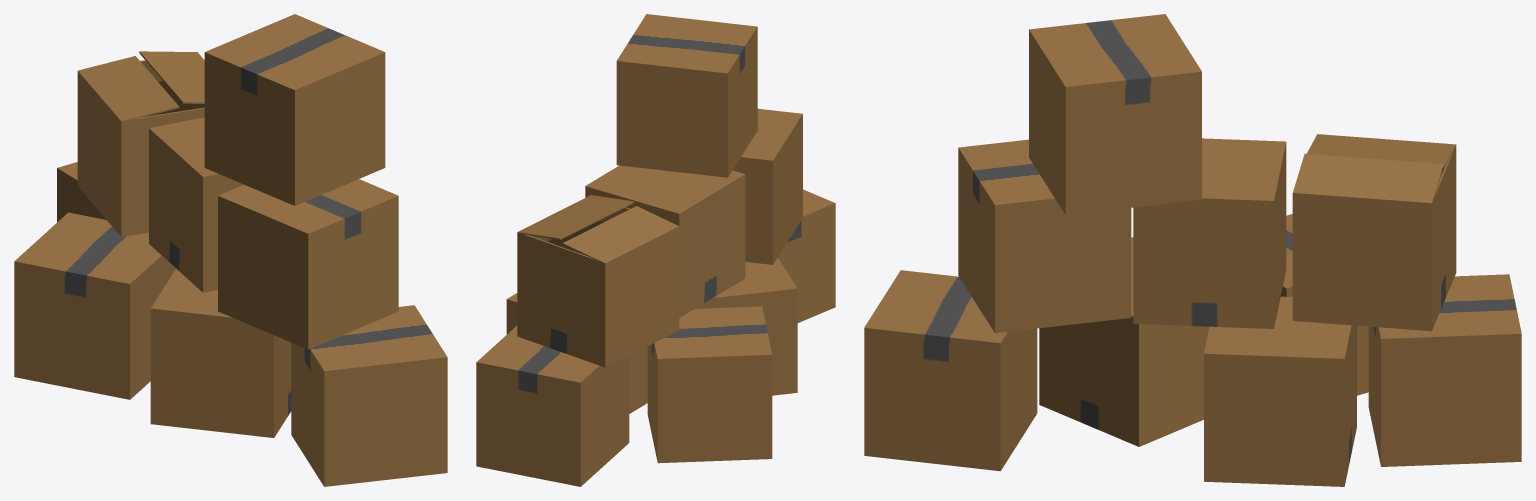
Rendered from BoxPile1.fbx.
The picture shows the model from 3 angles, left to right: view 1: azimuth 30°, elevation 25°; view 2: azimuth 150°, elevation 25°; view 3: azimuth 270°, elevation 25°; orthographic projection. The views are drawn at different scales.
Parts seen in each view (by area): view 1: BoxPile1; view 2: BoxPile1; view 3: BoxPile1.
Part boxes in pixels (x1=…): BoxPile1: x1=14, y1=14, x2=447, y2=486; BoxPile1: x1=476, y1=14, x2=835, y2=486; BoxPile1: x1=864, y1=14, x2=1521, y2=486.
Size of the model in its own units: 154 by 180 by 279.
